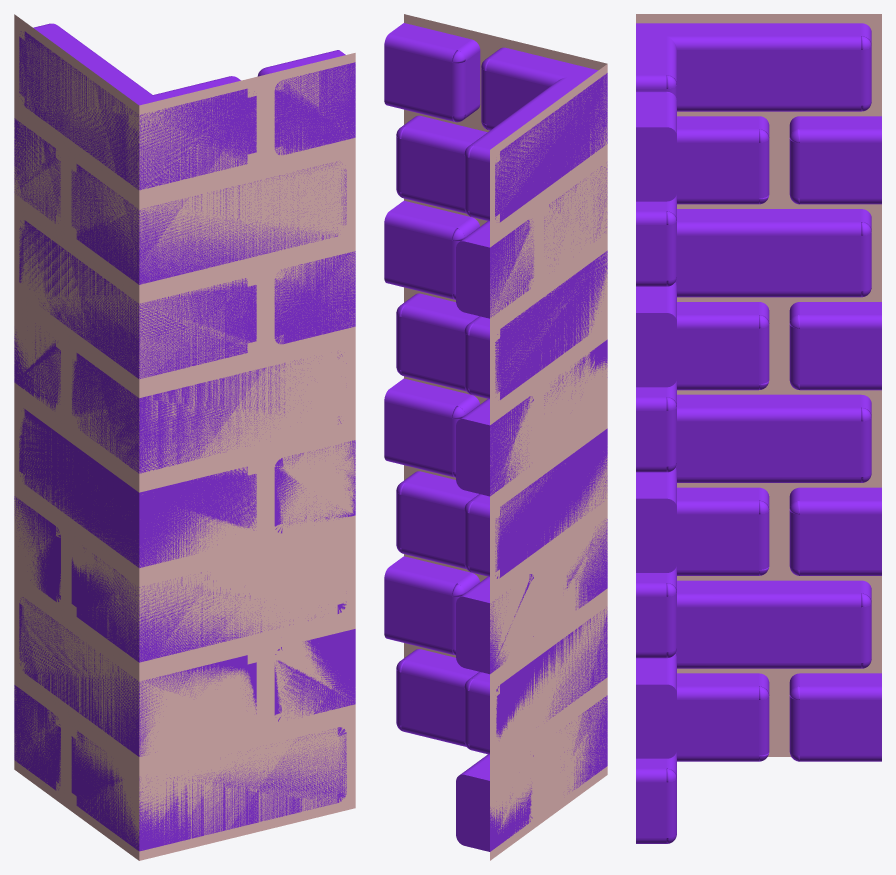
Rendered from concave_1_b.dae.
The picture shows the model from 3 angles, left to right: view 1: azimuth 30°, elevation 25°; view 2: azimuth 150°, elevation 25°; view 3: azimuth 270°, elevation 25°; orthographic projection. The views are drawn at different scales.
Parts seen in each view (by area): view 1: group_2 (×8), corner_concave (×8), group_5 (×8), group_10 (×8), brick_half (×8); view 2: corner_concave (×13), brick_half (×8), group_5 (×5), group_2 (×5), group_10 (×5), group_14 (×4), group_15; view 3: corner_concave (×24), brick_half (×8), group_2 (×4), group_10 (×4), group_5 (×4), group_8 (×8), group_14 (×4), group_3 (×4), group_15 (×4), group_11 (×4).
Part boxes in pixels (<box>): group_2 (×8): <box>14,14,355,860</box>; corner_concave (×8): <box>19,24,346,851</box>; group_5 (×8): <box>66,74,265,860</box>; group_10 (×8): <box>14,53,355,807</box>; brick_half (×8): <box>14,51,355,790</box>; corner_concave (×13): <box>401,48,607,791</box>; brick_half (×8): <box>384,23,533,851</box>; group_5 (×5): <box>488,35,607,824</box>; group_2 (×5): <box>404,64,607,771</box>; group_10 (×5): <box>404,14,538,860</box>; group_14 (×4): <box>384,33,456,595</box>; group_15: <box>452,61,465,116</box>; corner_concave (×24): <box>636,23,861,837</box>; brick_half (×8): <box>636,92,881,758</box>; group_2 (×4): <box>636,14,881,664</box>; group_10 (×4): <box>779,107,881,756</box>; group_5 (×4): <box>677,111,779,756</box>; group_8 (×8): <box>666,46,871,837</box>; group_14 (×4): <box>800,129,881,699</box>; group_3 (×4): <box>759,139,769,755</box>; group_15 (×4): <box>789,139,799,755</box>; group_11 (×4): <box>800,198,881,761</box>.
Size of the model in its own units: 23.62 by 23.62 by 78.74.
